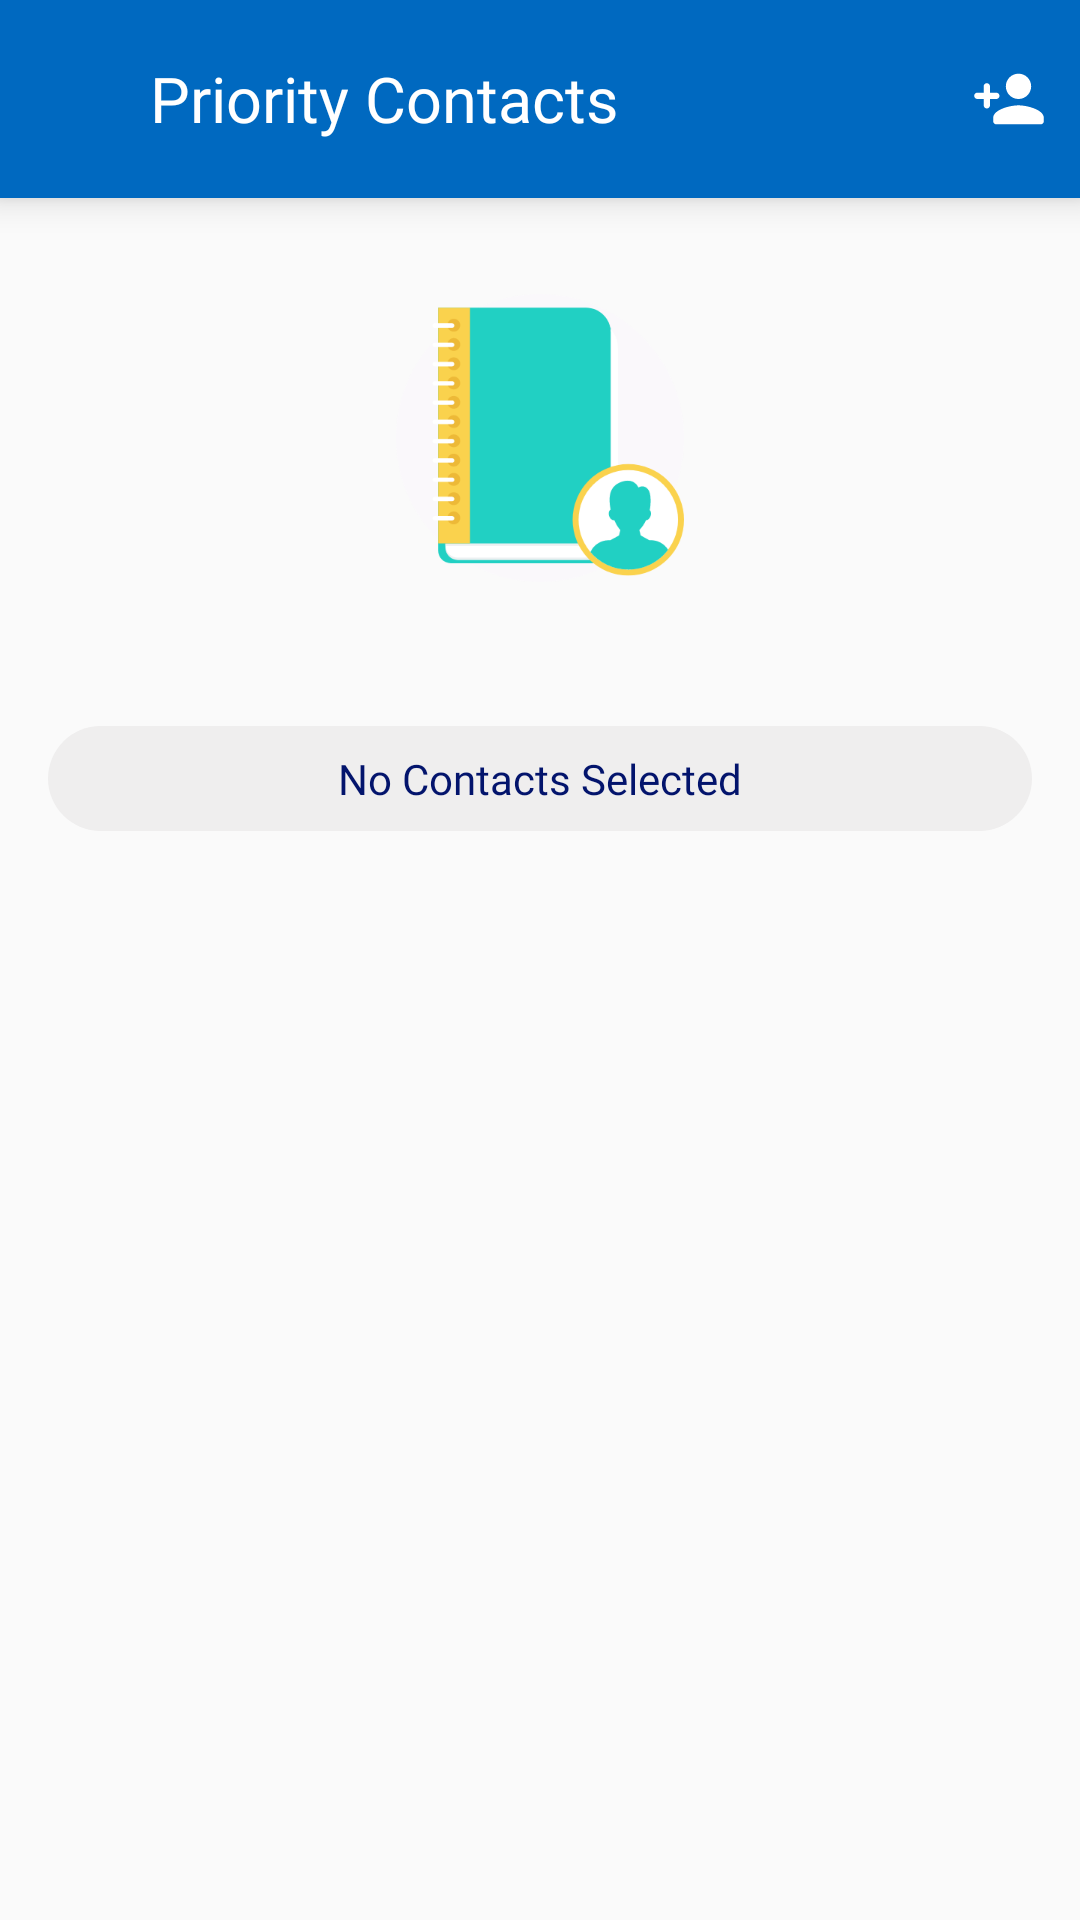

Point at icon controls on the screen. Image size 1080x1920, points as [x,y].
person add: [1009,99]
